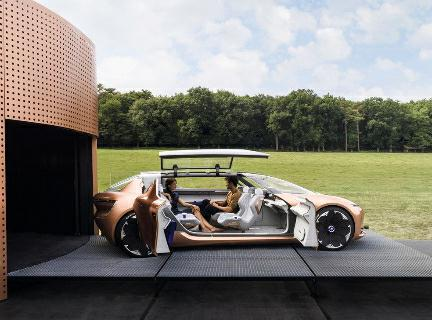雷诺-Symbioz: (95, 169, 371, 250)
